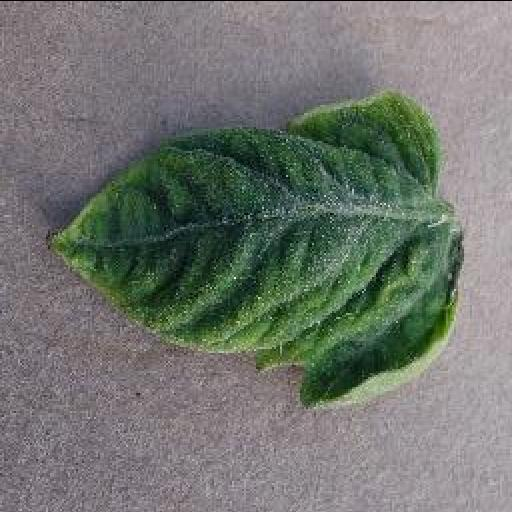disease_tomato: (48, 90, 466, 406)
